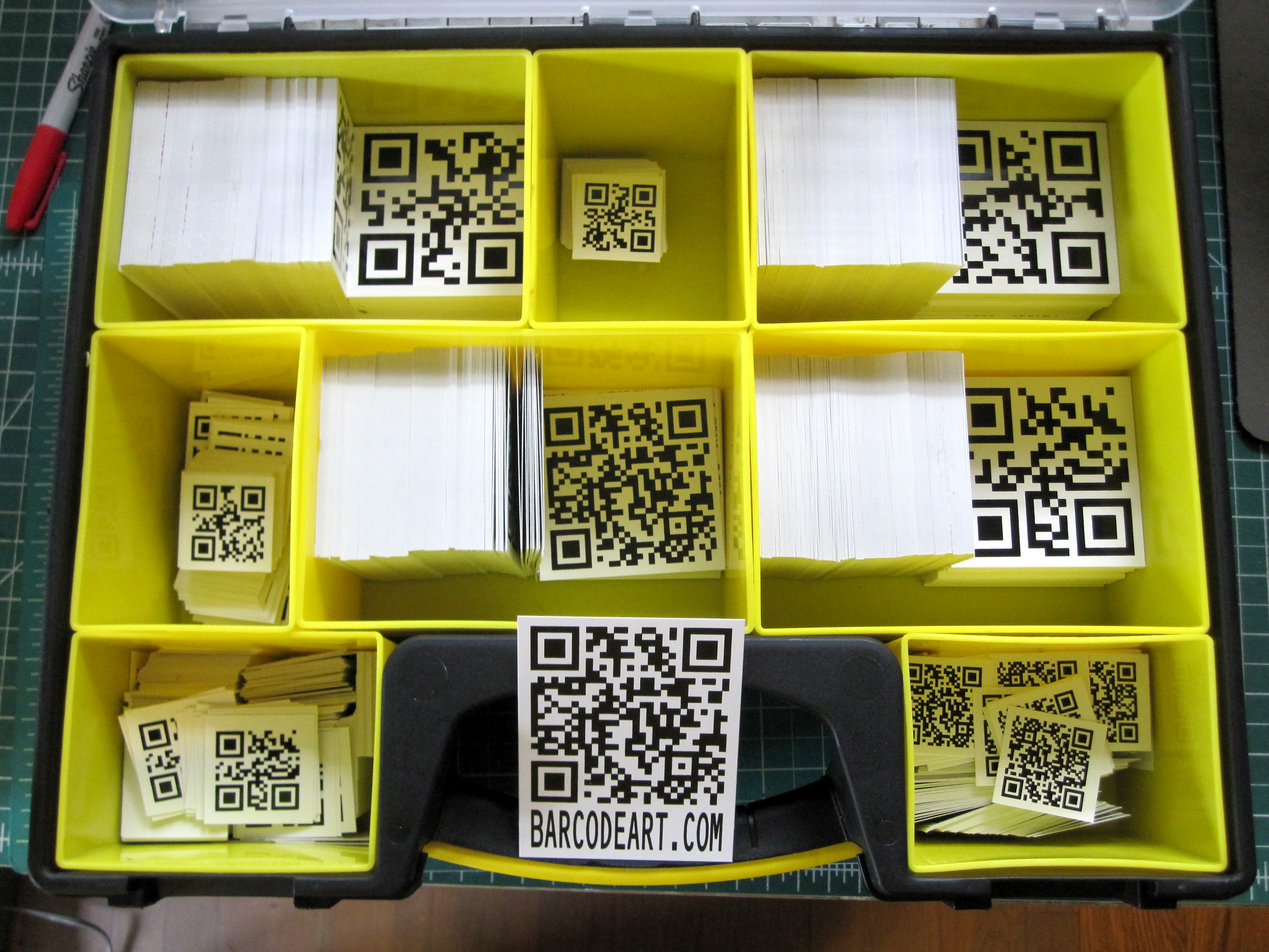QR-CODE: (530, 626, 732, 805), (543, 399, 718, 570), (965, 387, 1135, 557), (358, 131, 524, 286), (945, 130, 1109, 284), (1001, 714, 1094, 812), (215, 729, 300, 811), (909, 663, 982, 748), (191, 485, 266, 563), (582, 182, 657, 252), (332, 92, 354, 284), (1088, 661, 1138, 743), (138, 717, 185, 802), (996, 660, 1077, 687), (1015, 690, 1082, 720), (983, 711, 999, 777), (192, 415, 210, 459)
